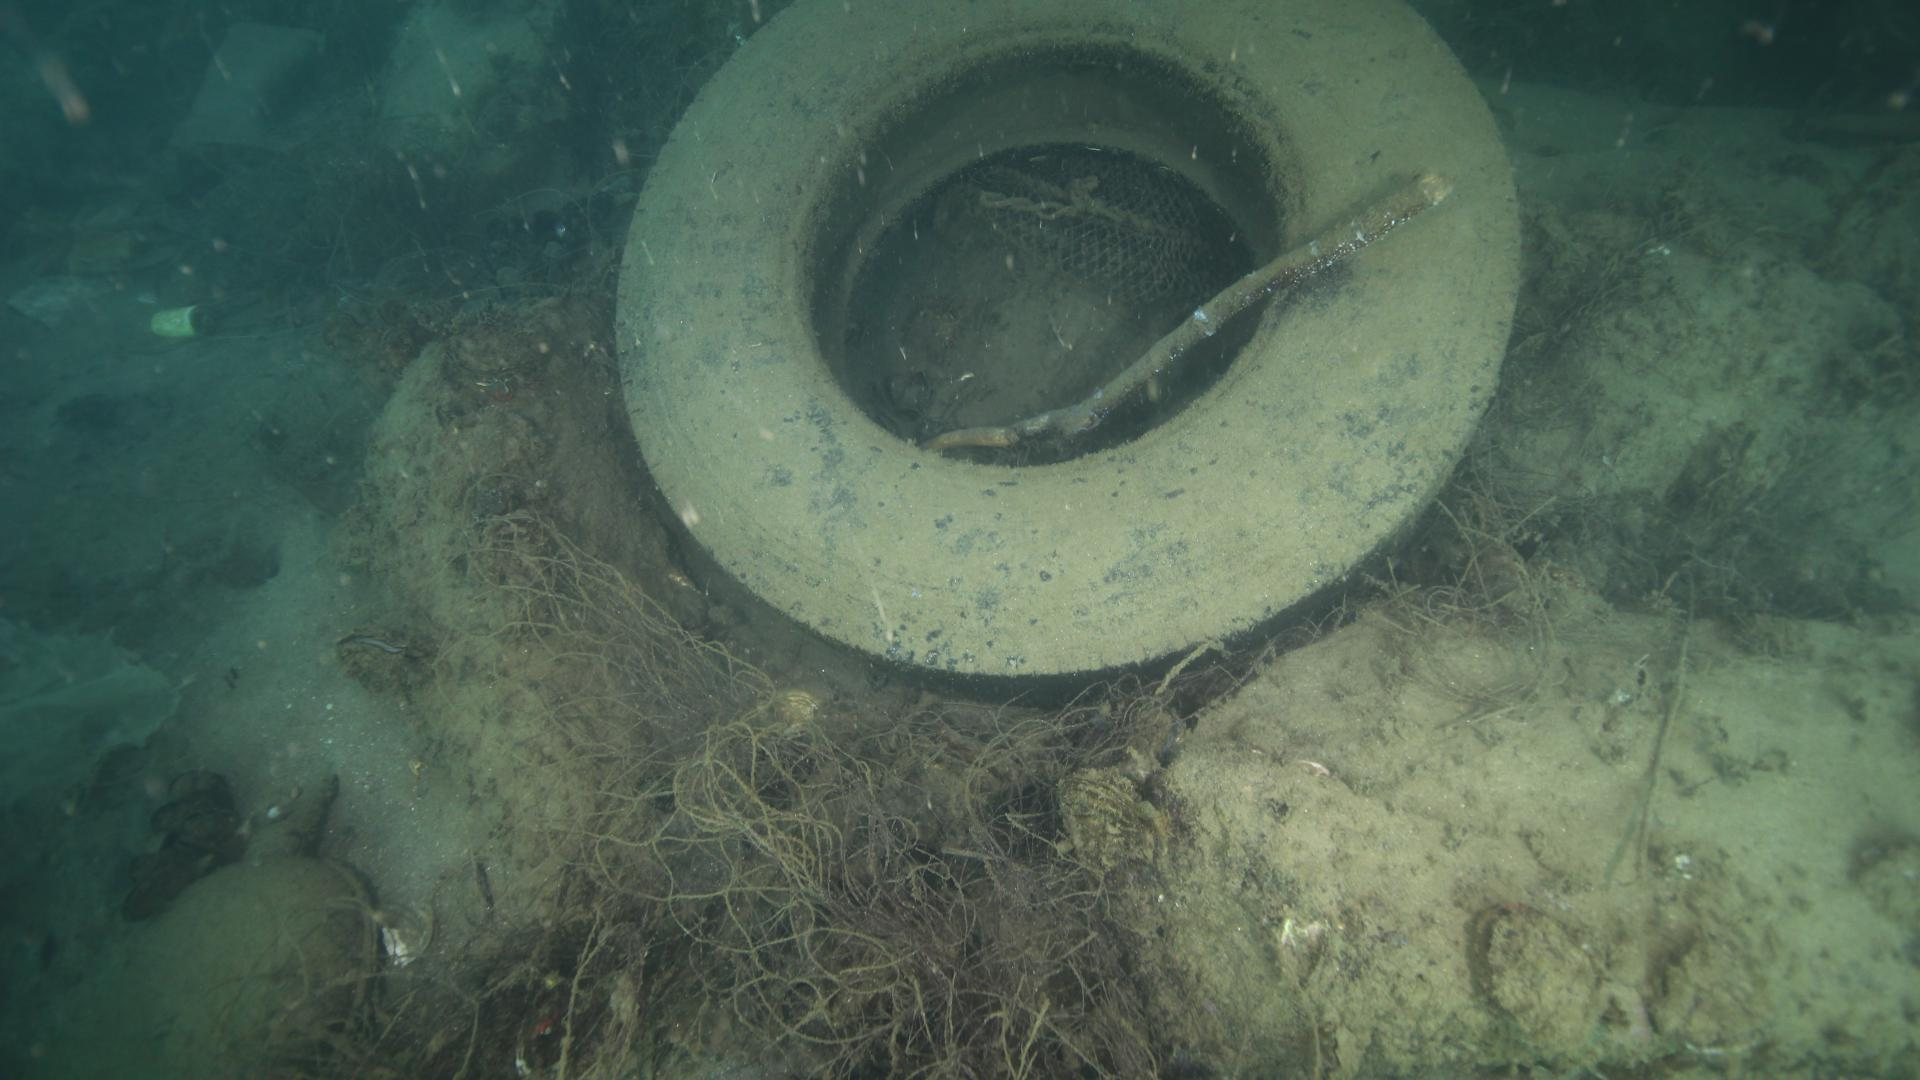fish net: (967, 146, 1240, 303)
tire: (611, 0, 1526, 679)
